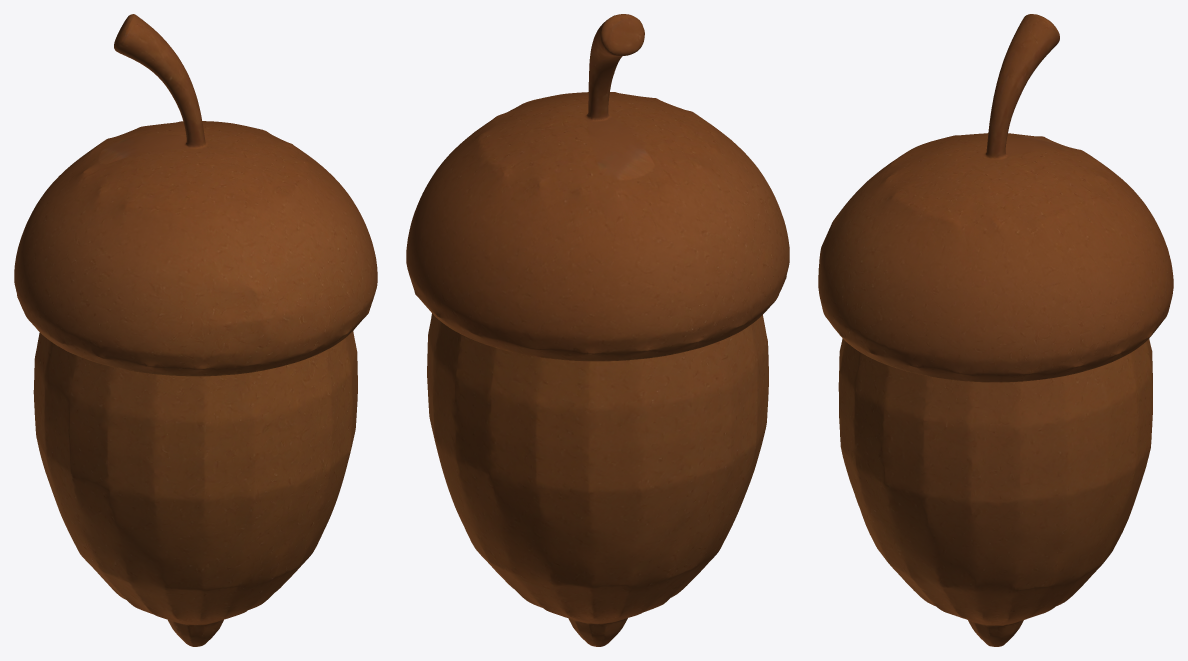
The model's file is pipsGoldenAcorn.16eae286.glb.
3 views of the same model, side by side, from view 1: azimuth 30°, elevation 25°; view 2: azimuth 150°, elevation 25°; view 3: azimuth 270°, elevation 25° (orthographic). The views are drawn at different scales.
Bounding box in the file's own units: 1 × 1.9 × 1.
Materials: 1 (1 with a texture image).
